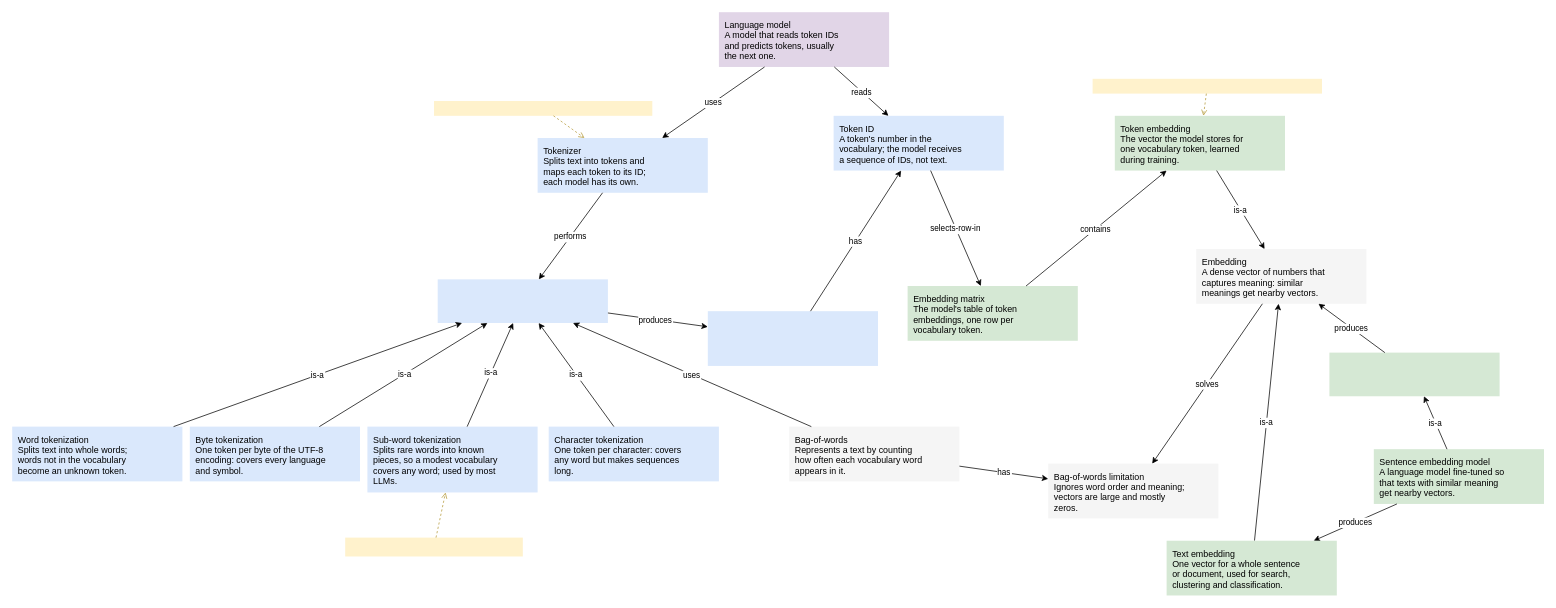
The diagram is 1556 pixels wide and 608 high, and some of its shapes have lost their labels. The centre of each missing label's shape, as x and y in pixels:
Embedding method A way of learning embeddings from data.: point 1414,374
How does context change a token's embedding?: point 1207,85
Token One unit of text: a word, part of a word, a character or a byte.: point 792,338
Tokenization Splitting text into tokens, the units a language model reads.: point 522,301
Why can't a model use another model's tokenizer?: point 543,108
Why do LLMs prefer sub-word tokens?: point 433,546
